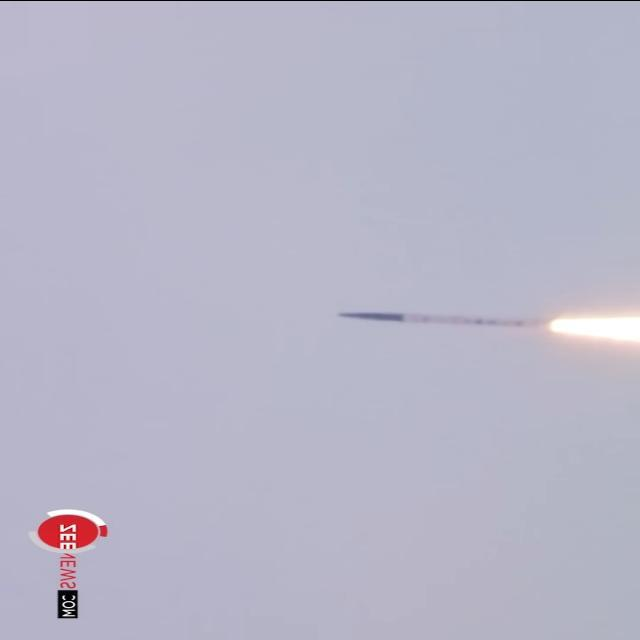missile: (327, 309, 569, 332)
